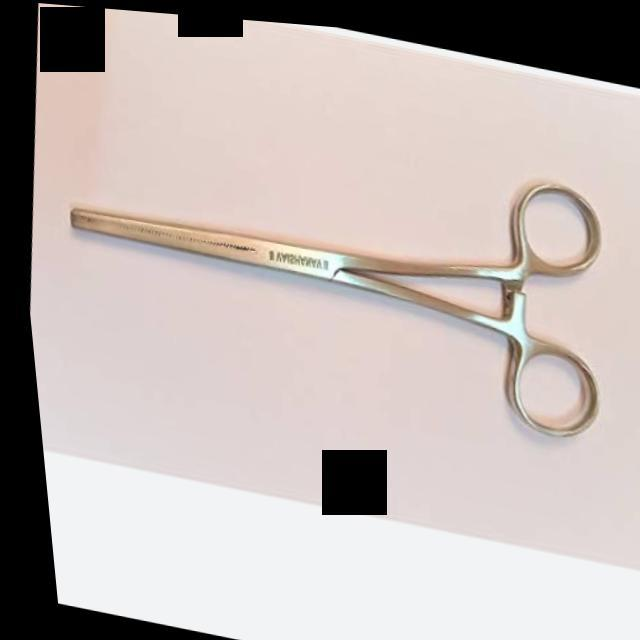Kocher Forceps: (36, 83, 640, 440)
